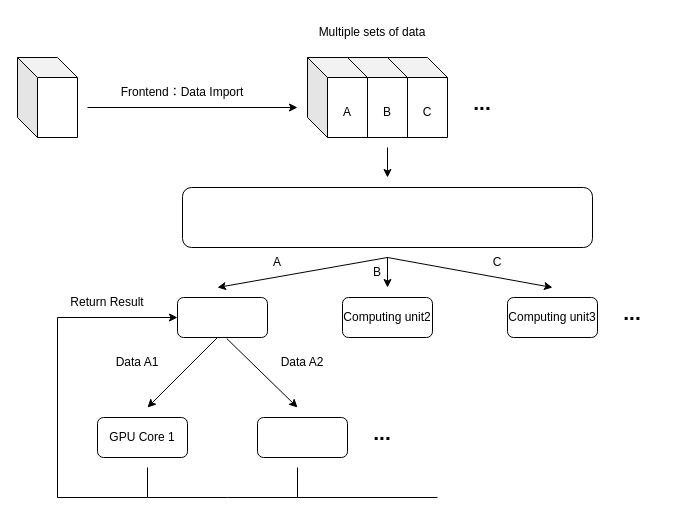
Some shapes in this 675 by 523 pixel diagram are drawn without their labels. The shapes that lost their labels are listed below. From the top down, each one's centre as x and y in pixels, then its label:
the point at 387,217: Backend Master Control: DIstribute data to different units
the point at 222,317: Computing unit1
the point at 302,437: CPU Core 2
